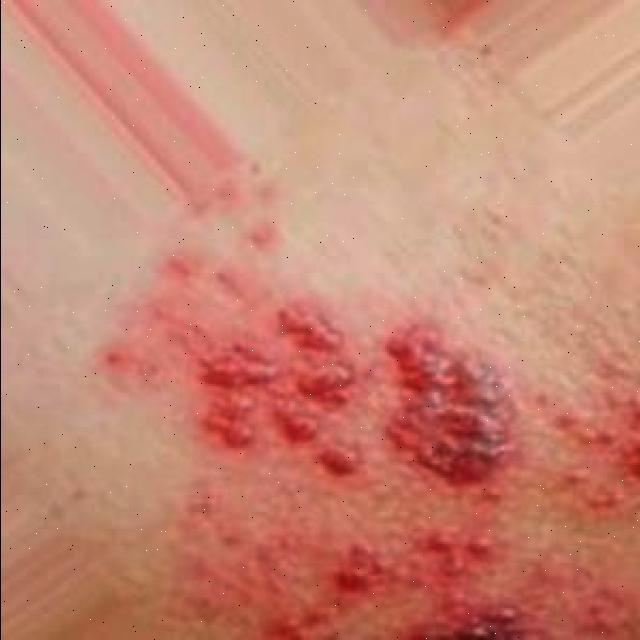Shingles: (178, 274, 639, 640)
